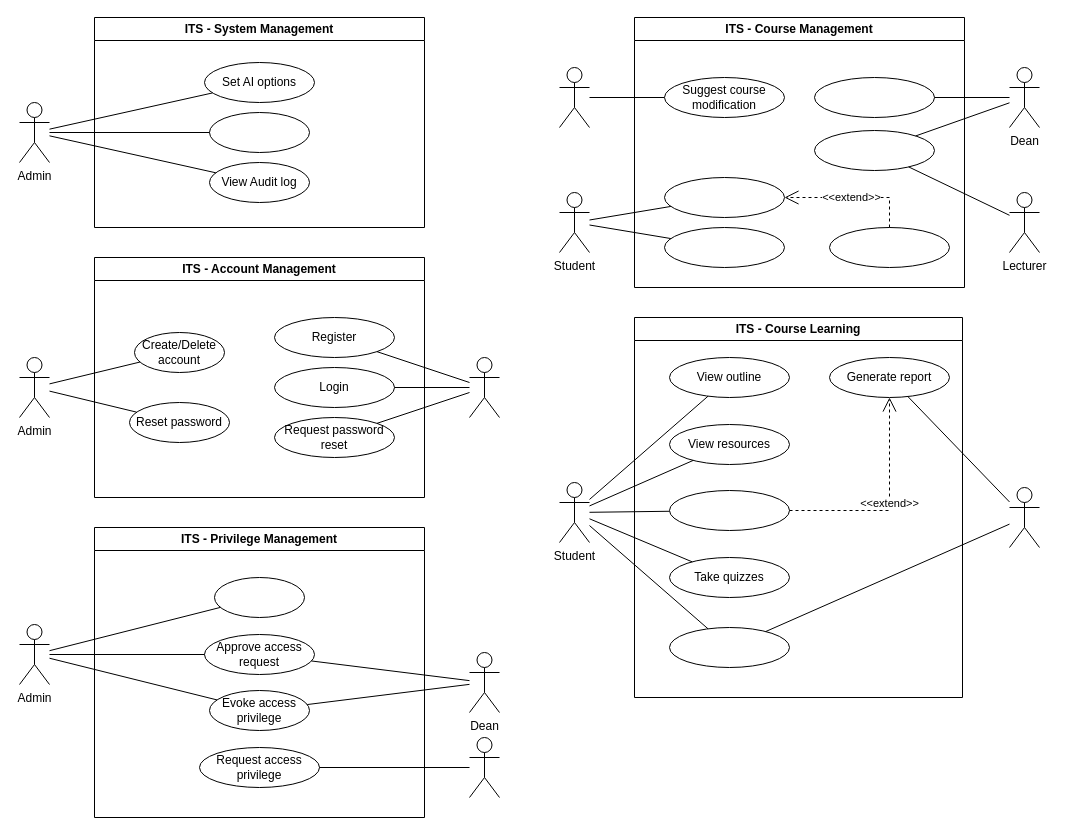
This 1079x836 diagram has some shape labels left out. The shapes that lost their labels are listed below. From the top down, each one's centre as x and y in pixels, then its label:
At (x=574, y=97): "TA".
At (x=874, y=97): "Create course".
At (x=259, y=132): "View AI operation log".
At (x=874, y=150): "Modify course content".
At (x=724, y=197): "Enroll course".
At (x=724, y=247): "Withdraw course".
At (x=889, y=247): "View course recommendation".
At (x=484, y=387): "User".
At (x=729, y=510): "View statistic feedback".
At (x=1024, y=517): "Dean/Lecturer /TA".
At (x=259, y=597): "Grant/Revoke Dean privilege".
At (x=729, y=647): "Join forum".
At (x=484, y=767): "Lecturer/TA".
